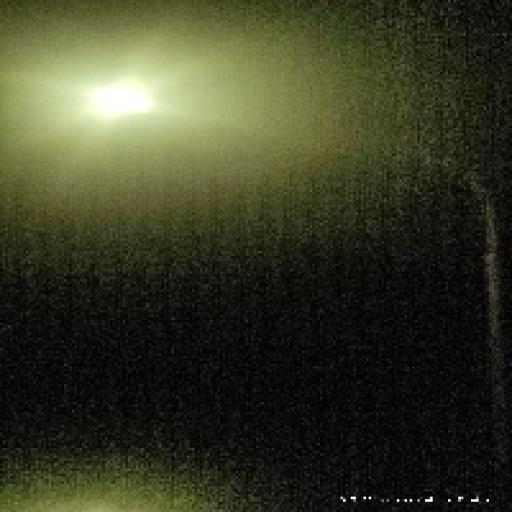Working: (84, 74, 165, 133)
